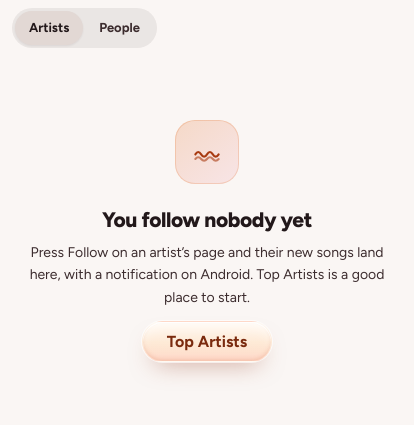
Test: /following → People › switches tabs, and the artists tab is the default
Click the tab "People" at (120, 28), box [85,11,154,45]
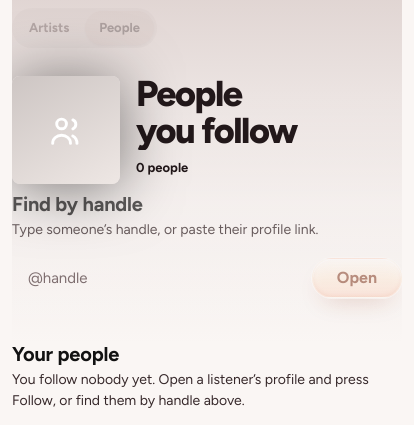
Expected: the heading "People you follow" is shown, [136,72,297,152]
